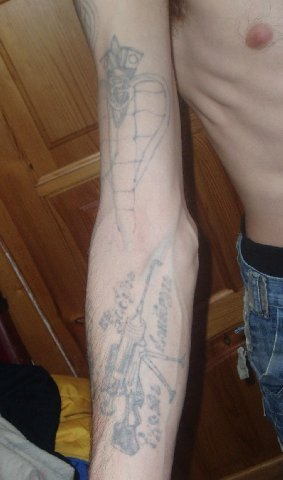tatu7_zmeya: (84, 25, 178, 245)
